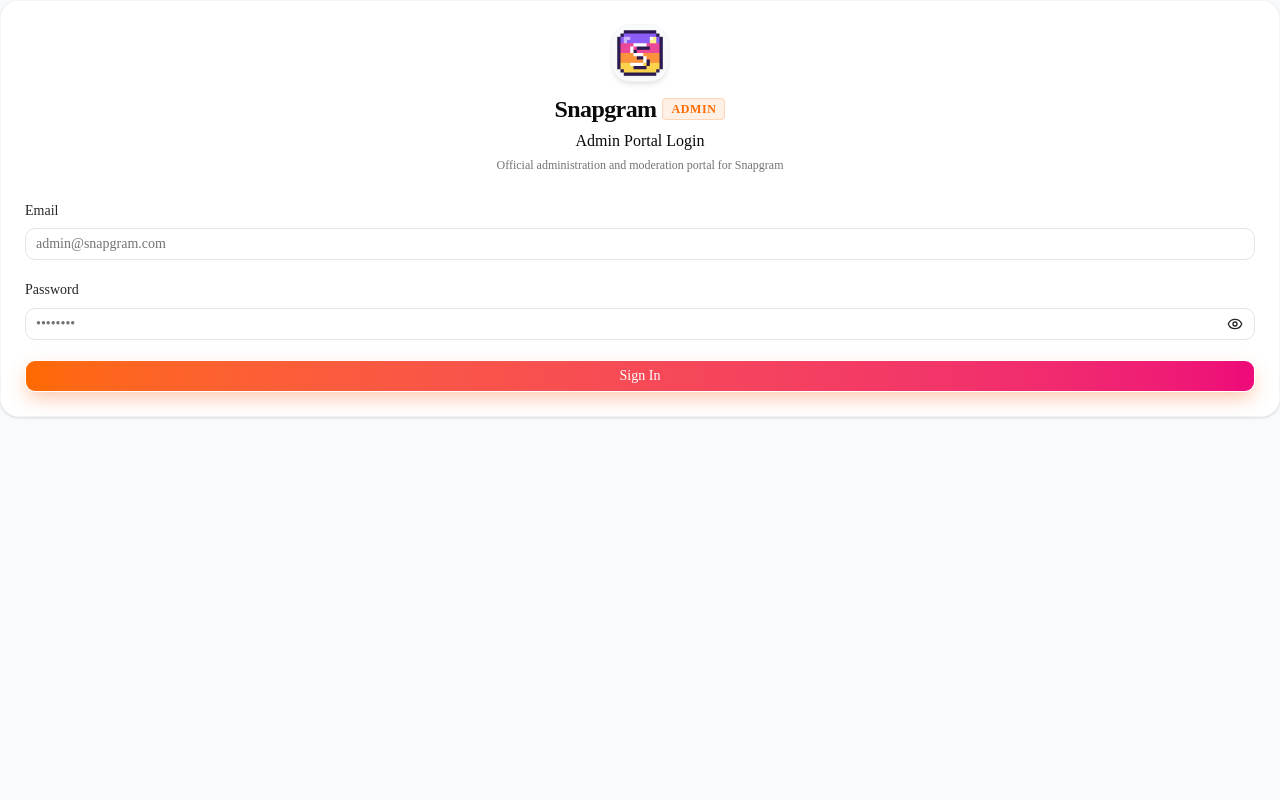
Scenario: LoginForm › opens the two-factor dialog when the API requires 2FA
Type "admin@snapgram.dev" into the field labelled "Email". click: (640, 244)
box: [25,228,1255,260]
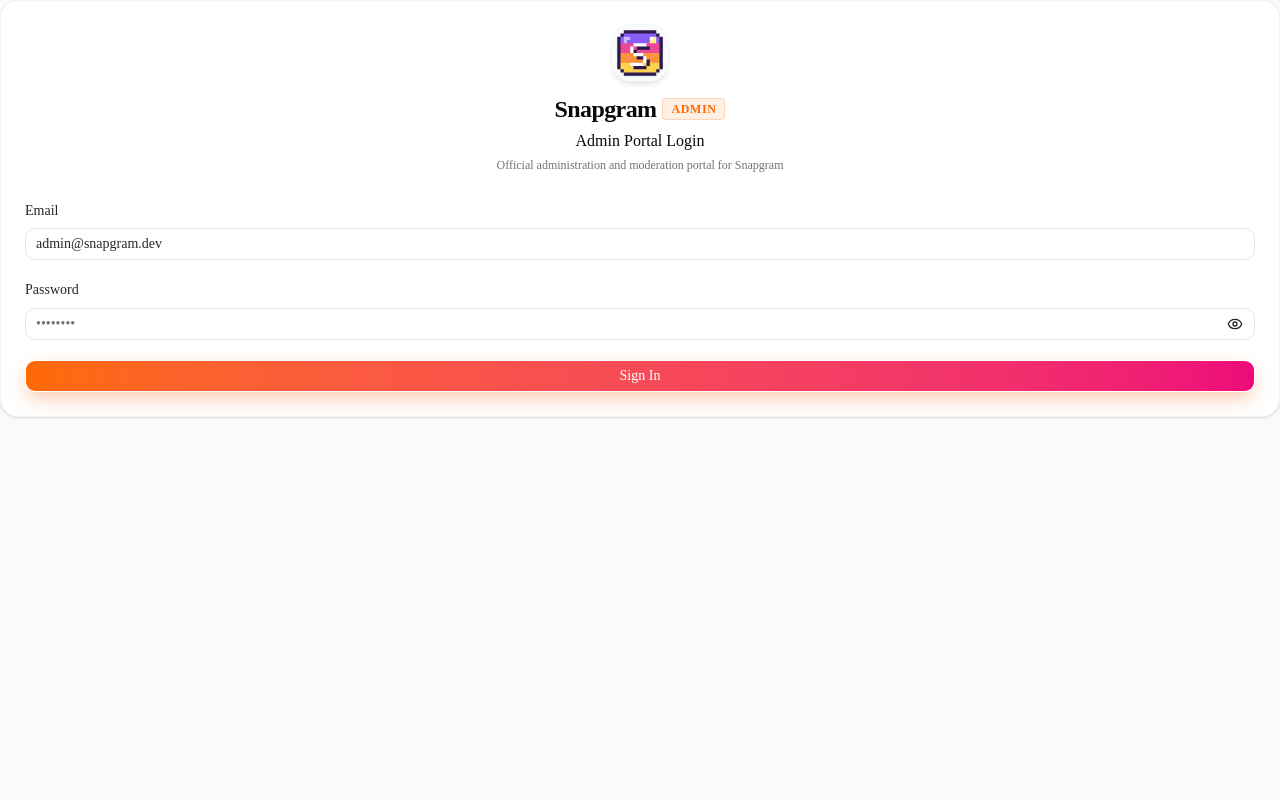
Type "password" into the password field with placeholder "••••••••". click: (640, 324)
box: [25,308,1255,340]
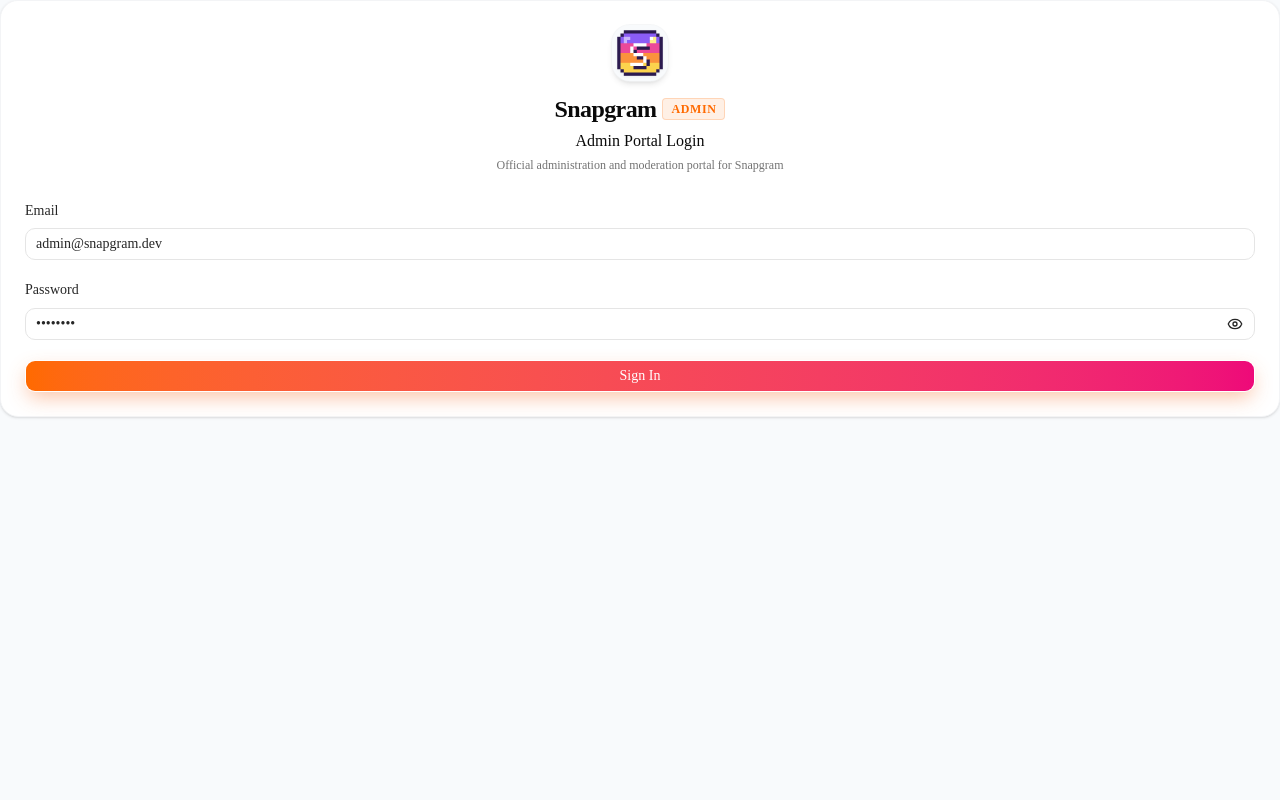
Click the button "Sign In". click: (640, 376)
box: [25,360,1255,392]
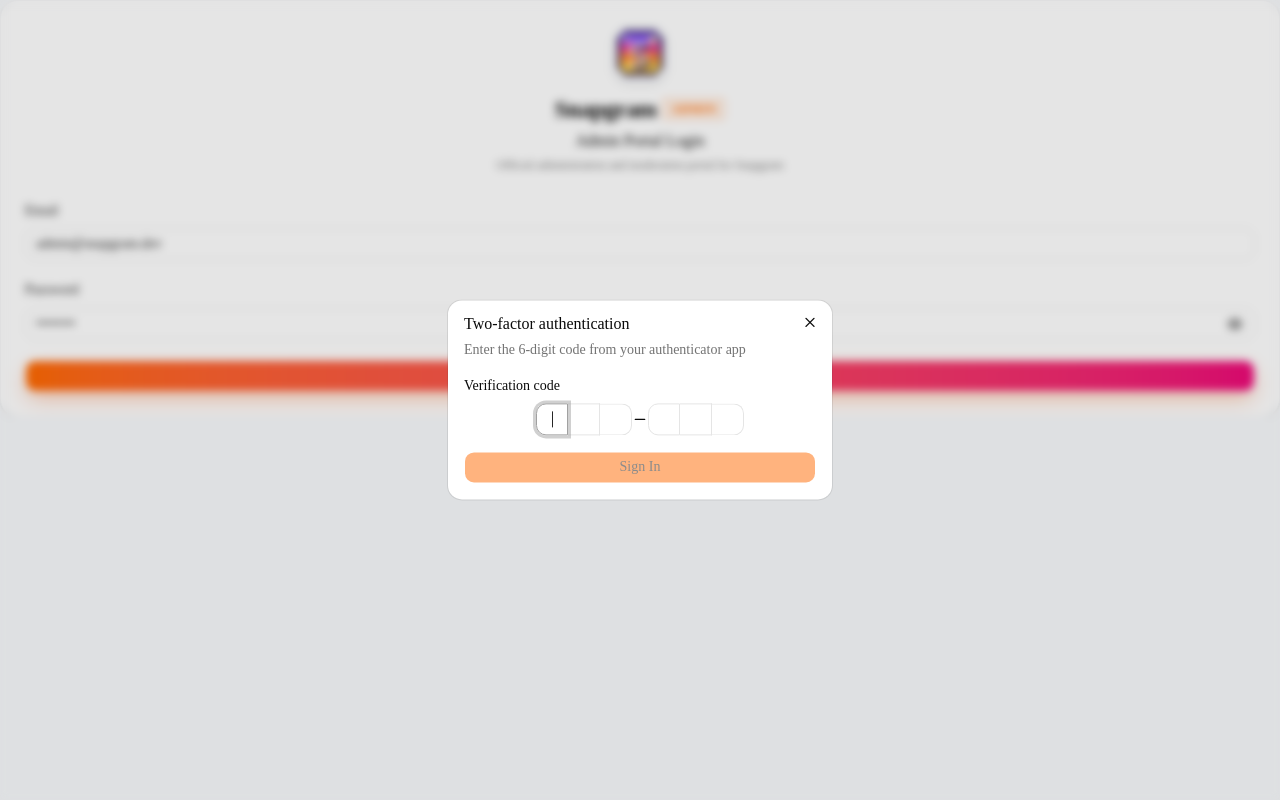
Check: the dialog is shown, box [448,300,832,500]
